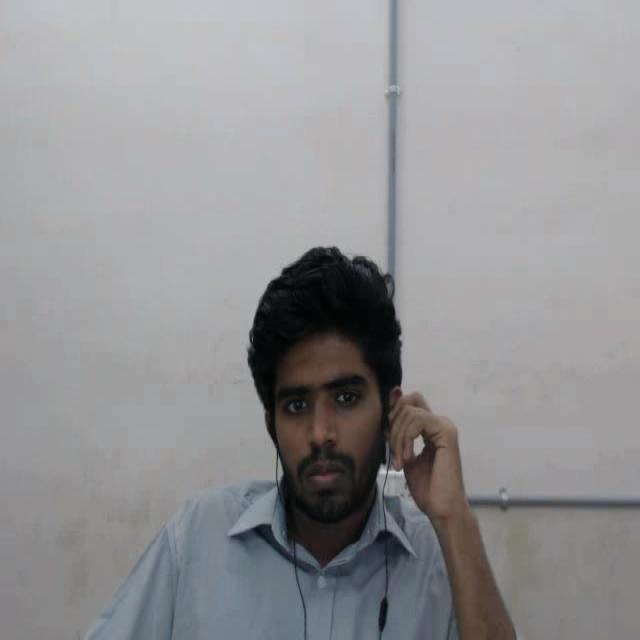Engaged: (224, 222, 425, 569)
